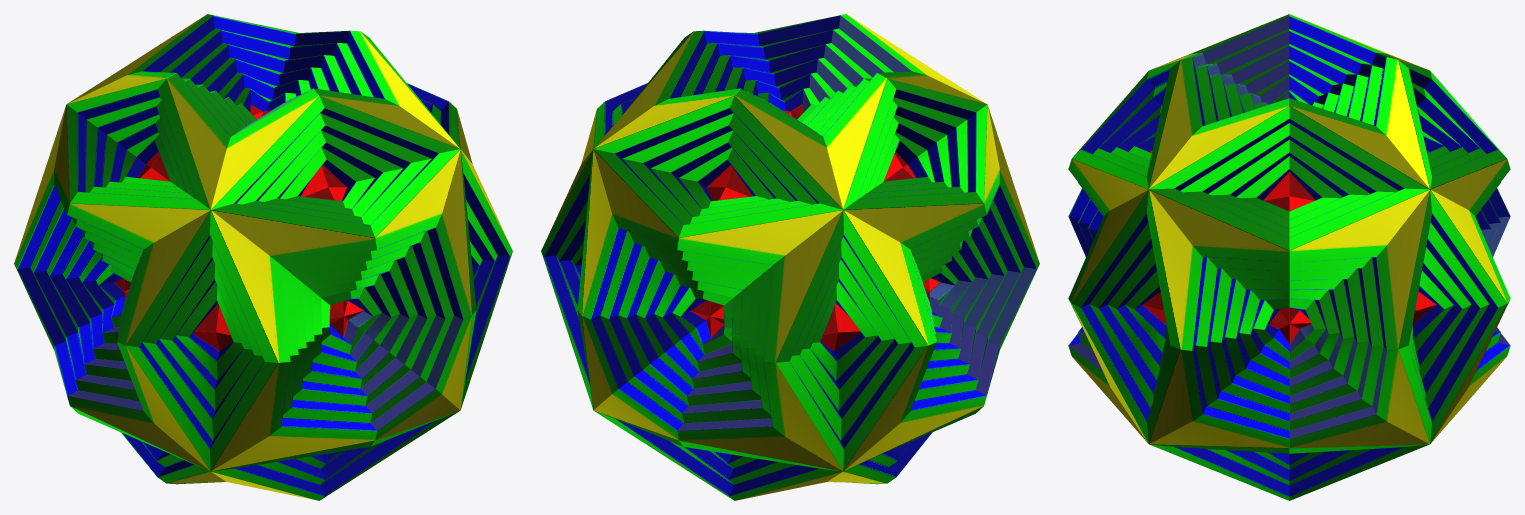
The model's file is orb.fbx.
The picture shows the model from 3 angles, left to right: view 1: azimuth 30°, elevation 25°; view 2: azimuth 150°, elevation 25°; view 3: azimuth 270°, elevation 25°; orthographic projection. The views are drawn at different scales.
Visible parts, largest first — view 1: face_3, face_0, face, cornerFace_2, cornerFace_2_2, cornerFace_3, cornerFace_1_2, cornerFace_1; view 2: face_1, face_0, face, cornerFace_0, cornerFace_3_2, cornerFace_3, cornerFace_0_2, cornerFace_1; view 3: face_2, cornerFace_1, face, cornerFace_0_2, cornerFace_1_2, face_1, face_3, cornerFace_0, cornerFace_2.
Boxes of the visible parts, x1,y1,x2,y2 form: face_3: [211, 149, 471, 471]; face_0: [14, 105, 210, 470]; face: [67, 14, 459, 500]; cornerFace_2: [211, 96, 460, 500]; cornerFace_2_2: [126, 210, 278, 471]; cornerFace_3: [66, 78, 210, 483]; cornerFace_1_2: [460, 149, 512, 409]; cornerFace_1: [360, 31, 460, 148]; face_1: [582, 149, 842, 471]; face_0: [843, 105, 1039, 470]; face: [594, 14, 986, 500]; cornerFace_0: [593, 96, 842, 500]; cornerFace_3_2: [775, 210, 927, 471]; cornerFace_3: [843, 78, 987, 483]; cornerFace_0_2: [541, 149, 593, 409]; cornerFace_1: [593, 31, 693, 148]; face_2: [1149, 189, 1429, 448]; cornerFace_1: [1149, 106, 1429, 500]; face: [1149, 14, 1429, 188]; cornerFace_0_2: [1398, 190, 1507, 443]; cornerFace_1_2: [1071, 190, 1180, 443]; face_1: [1430, 159, 1510, 443]; face_3: [1068, 159, 1148, 443]; cornerFace_0: [1398, 60, 1506, 189]; cornerFace_2: [1072, 60, 1180, 189].
Bounding box in the file's own units: 182 × 182 × 182.
Materials: 3 (3 with a texture image).
